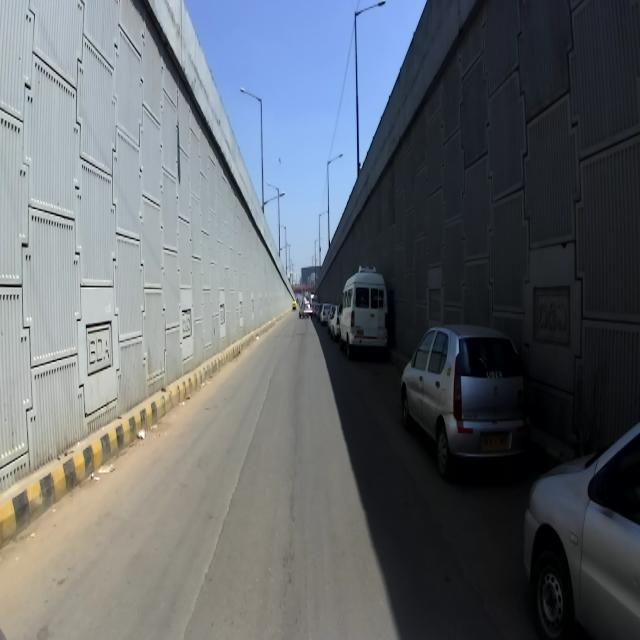bus ahead at: (339, 264, 391, 358)
car ahead at: (400, 319, 527, 468)
